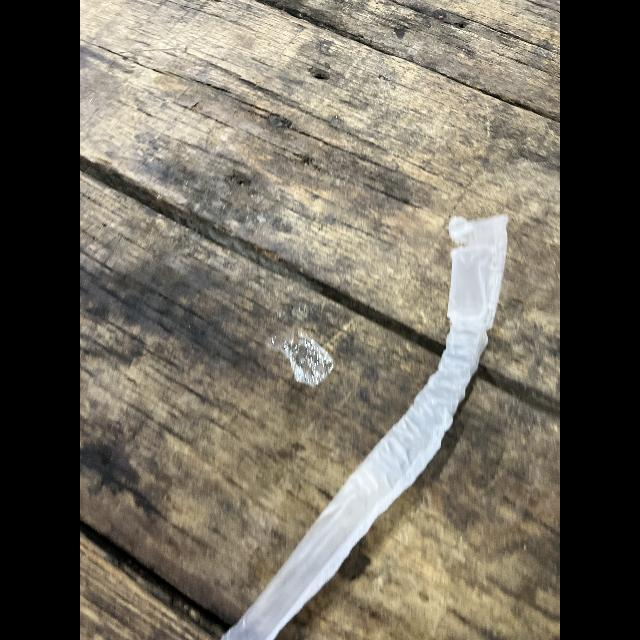scrap_plastic: (208, 212, 514, 640)
